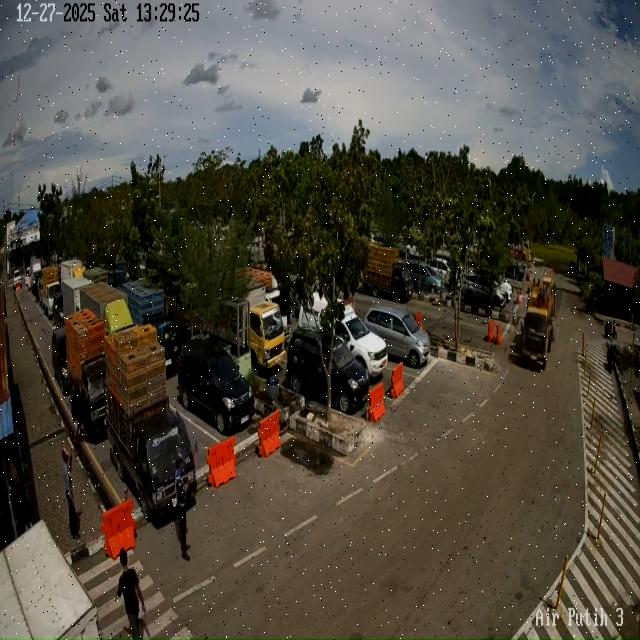Golongan IVA: (298, 293, 388, 377), (178, 340, 254, 434), (286, 328, 370, 413), (364, 306, 430, 368), (462, 274, 507, 308), (51, 326, 70, 395), (407, 260, 444, 294)
Golongan IVB: (106, 387, 206, 526), (68, 349, 119, 437), (362, 243, 413, 303)
Golongan VB: (522, 269, 556, 369)
